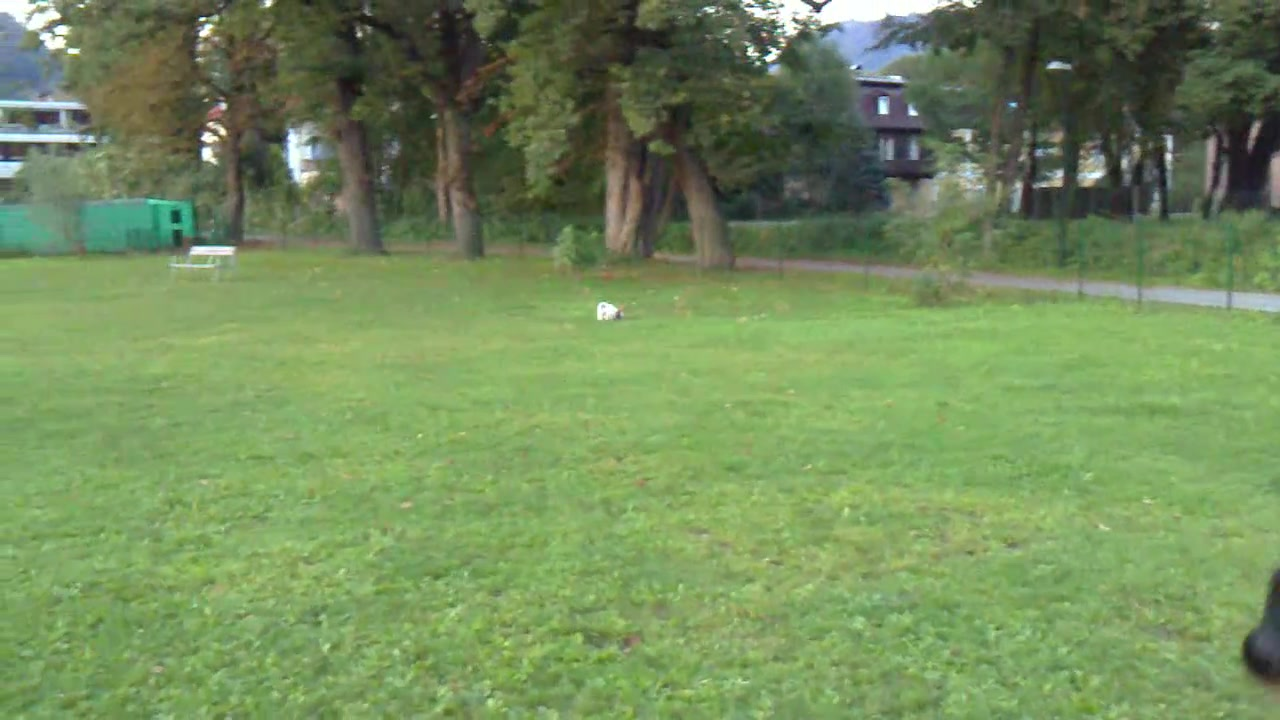dog: (595, 301, 626, 323)
